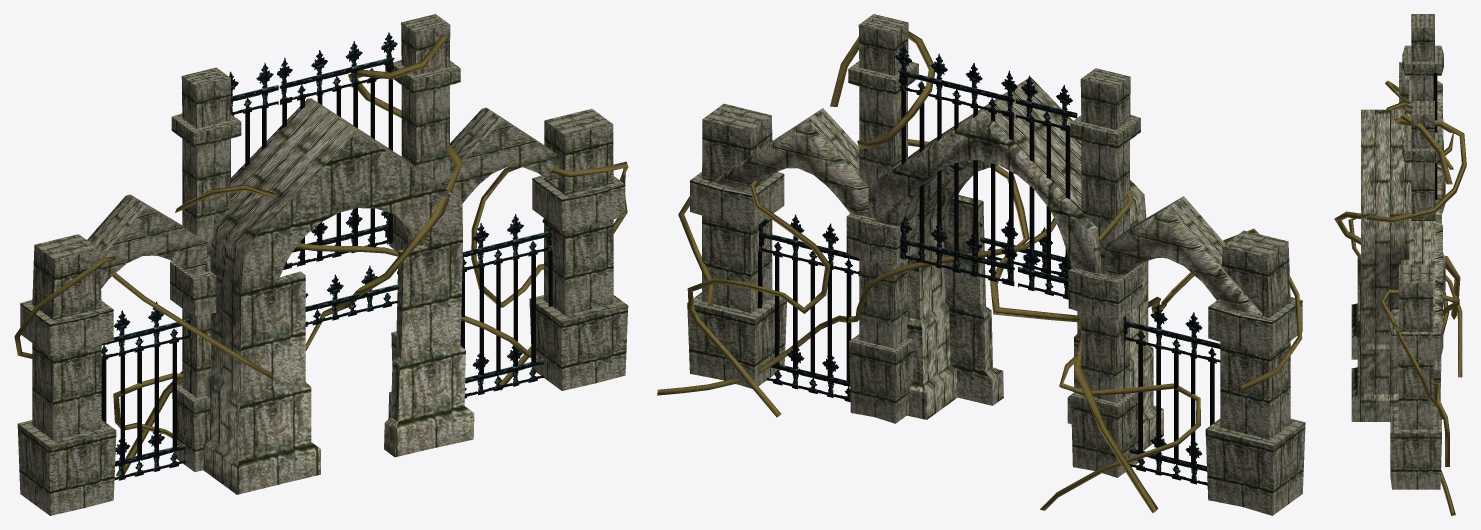
File: INST_MIRK_GATE_UNDEAD.fbx
3 views of the same model, side by side, from view 1: azimuth 30°, elevation 25°; view 2: azimuth 150°, elevation 25°; view 3: azimuth 270°, elevation 25° (orthographic). The views are drawn at different scales.
Visible parts, largest first — view 1: INST_MIRK_GATE_UNDEAD; view 2: INST_MIRK_GATE_UNDEAD; view 3: INST_MIRK_GATE_UNDEAD.
Boxes of the visible parts, x1,y1,x2,y2 form: INST_MIRK_GATE_UNDEAD: (14, 14, 628, 515); INST_MIRK_GATE_UNDEAD: (657, 14, 1305, 515); INST_MIRK_GATE_UNDEAD: (1334, 14, 1466, 515).
Bounding box in the file's own units: 105477 × 68647 × 24155.
Materials: 4 (4 with a texture image).
